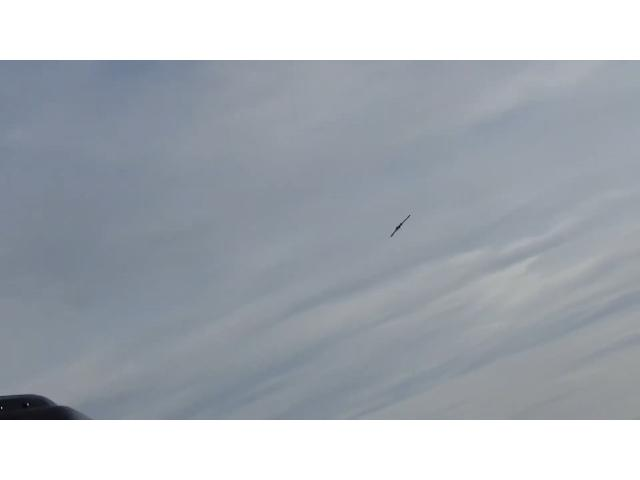Anti-Drone: (390, 214, 410, 238)
